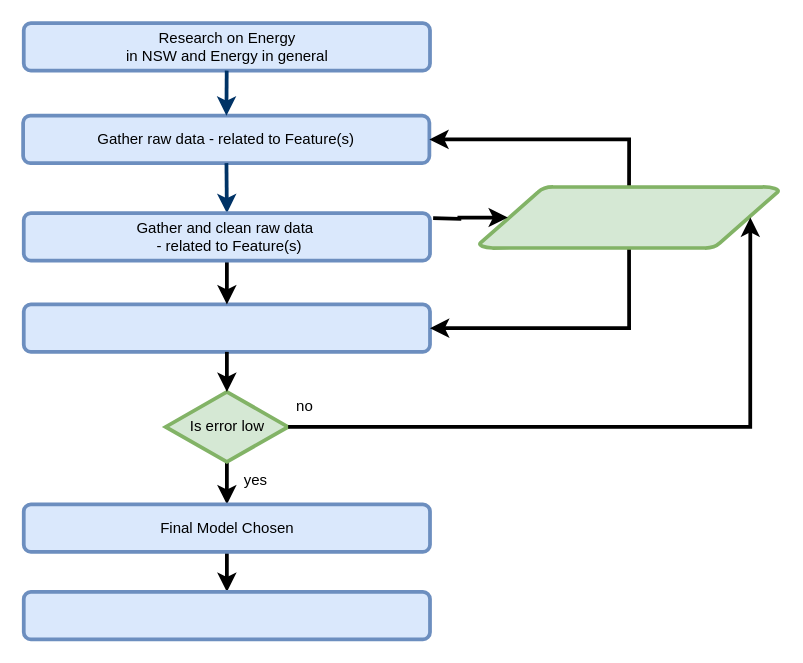
Some shapes in this 803 by 663 pixel diagram are drawn without their labels. The centre of each missing label's shape, as x and y in pixels:
Exploratory Data Analysis: [628,216]
Forecast using this chosen model which performed best: [226,615]
Model - Testing: [226,327]
